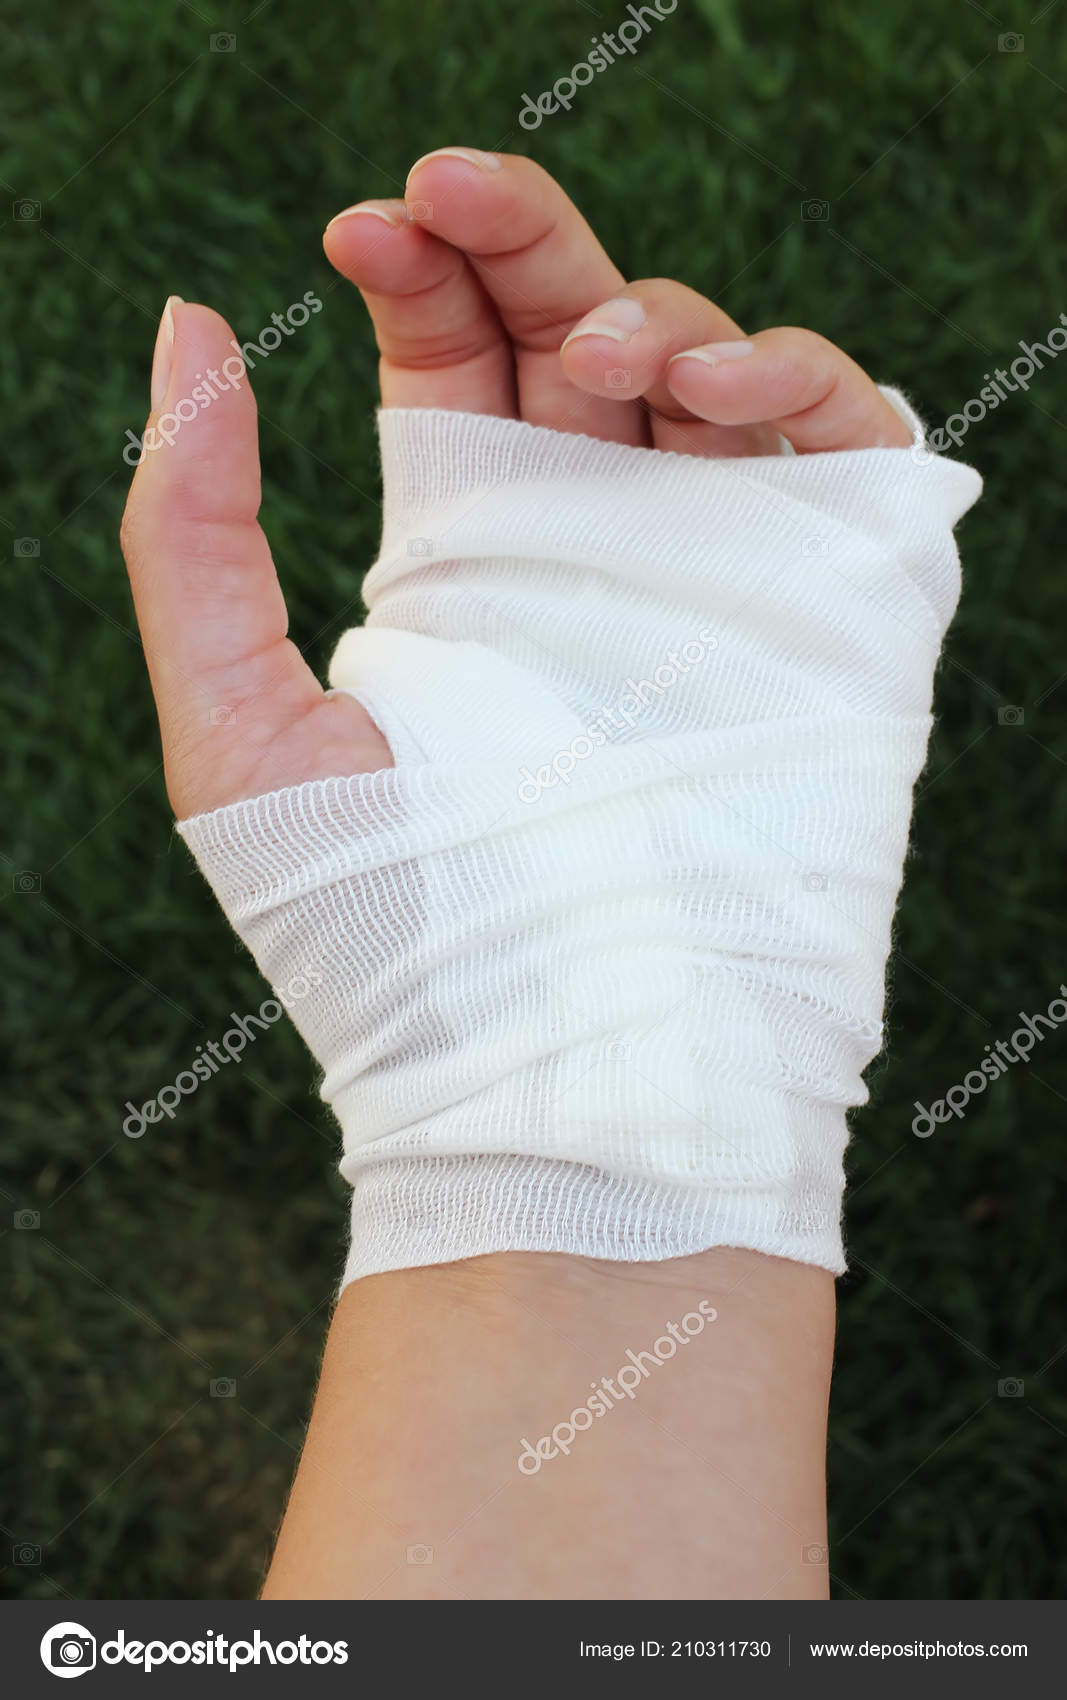injured: (227, 352, 915, 1304)
